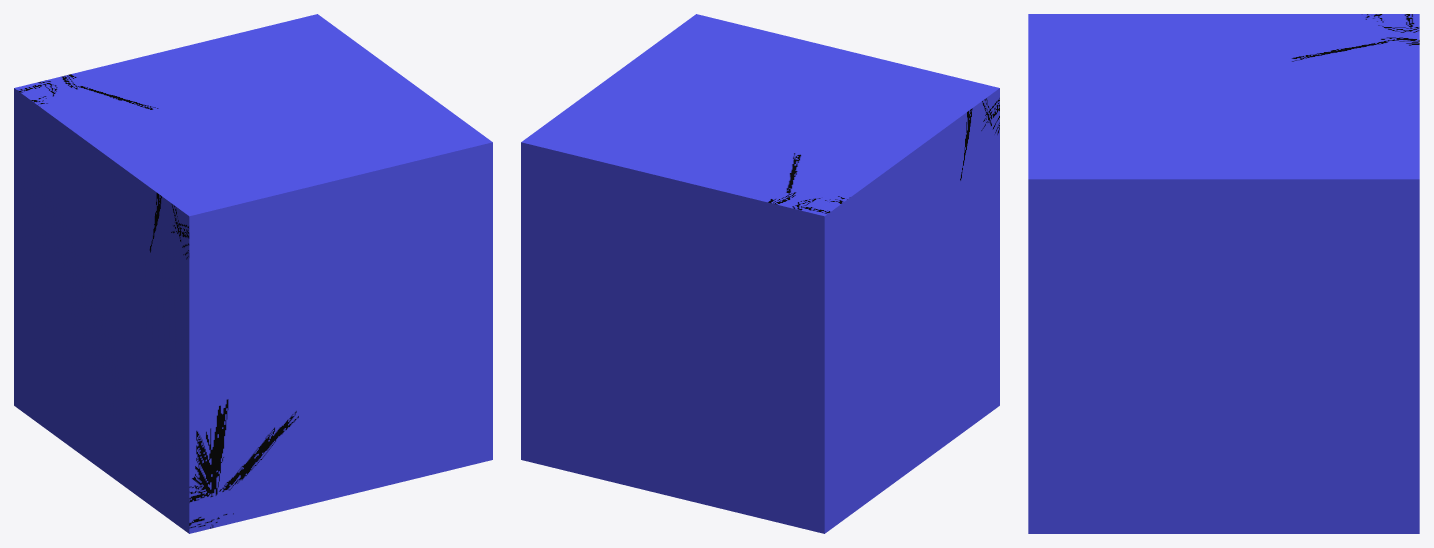
The model's file is CubeSoldier_cut_left.fbx.
3 renders of one model, left to right at view 1: azimuth 30°, elevation 25°; view 2: azimuth 150°, elevation 25°; view 3: azimuth 270°, elevation 25°, orthographic. The views are drawn at different scales.
Parts seen in each view (by area): view 1: Cube.001, Cube; view 2: Cube.001, Cube; view 3: Cube, Cube.001.
Part boxes in pixels (left/top/right/bottom): Cube.001: left=14, top=27, right=406, bottom=533; Cube: left=262, top=14, right=492, bottom=515; Cube.001: left=577, top=35, right=999, bottom=533; Cube: left=521, top=14, right=781, bottom=508; Cube: left=1028, top=132, right=1419, bottom=533; Cube.001: left=1028, top=14, right=1419, bottom=148.
Size of the model in its own units: 200 by 200 by 200.
